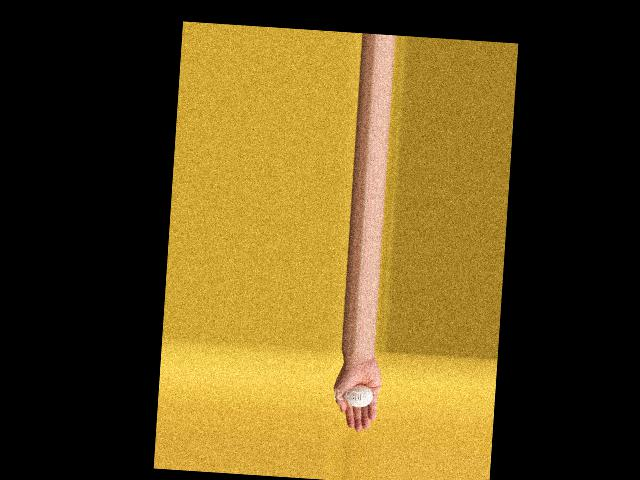egg: (343, 384, 373, 408)
